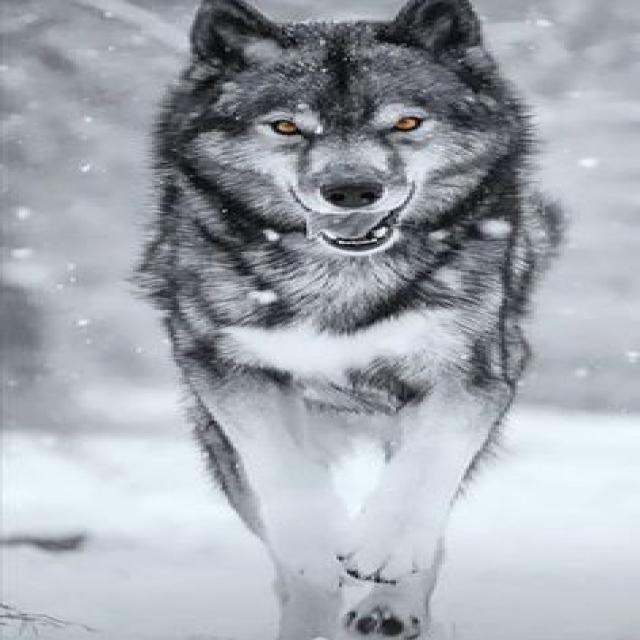Carnivorous: (136, 0, 564, 640)
